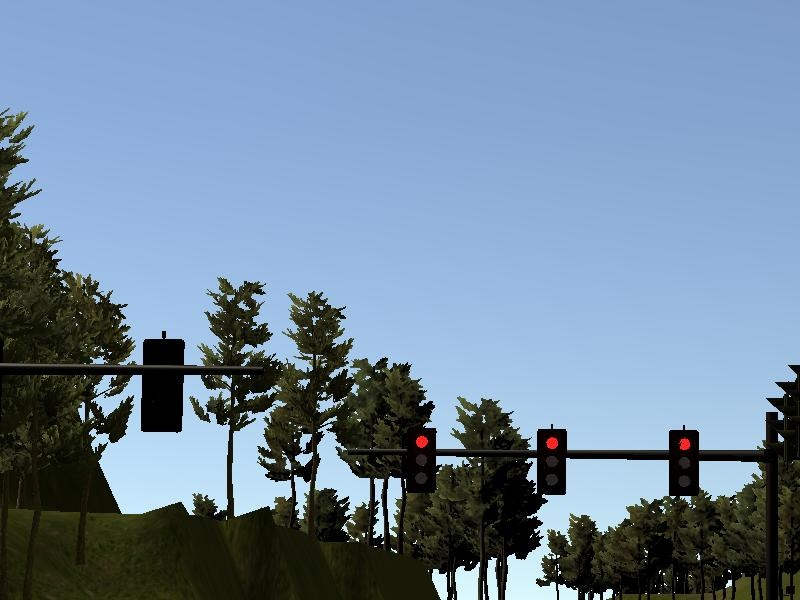traffic_light_red: (367, 425, 758, 498)
